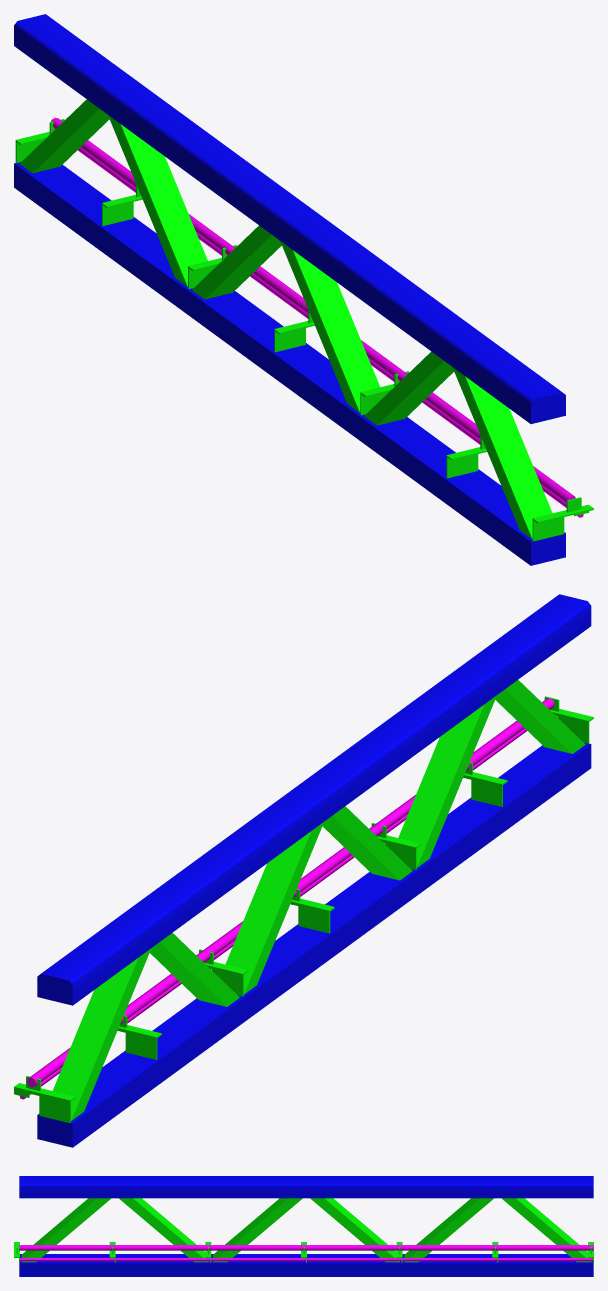
File: track_monoride_MOCKUP.fbx
3 renders of one model, top to bottom at view 1: azimuth 30°, elevation 25°; view 2: azimuth 150°, elevation 25°; view 3: azimuth 270°, elevation 25°, orthographic. The views are drawn at different scales.
Visible parts, largest first — view 1: track_monoride_MOCKUP; view 2: track_monoride_MOCKUP; view 3: track_monoride_MOCKUP.
Part boxes in pixels (x1,y1,x2,y2): track_monoride_MOCKUP: (14, 14, 593, 565); track_monoride_MOCKUP: (14, 594, 593, 1147); track_monoride_MOCKUP: (14, 1176, 593, 1276).
Size of the model in its own units: 0.065 by 0.177 by 1.01.
